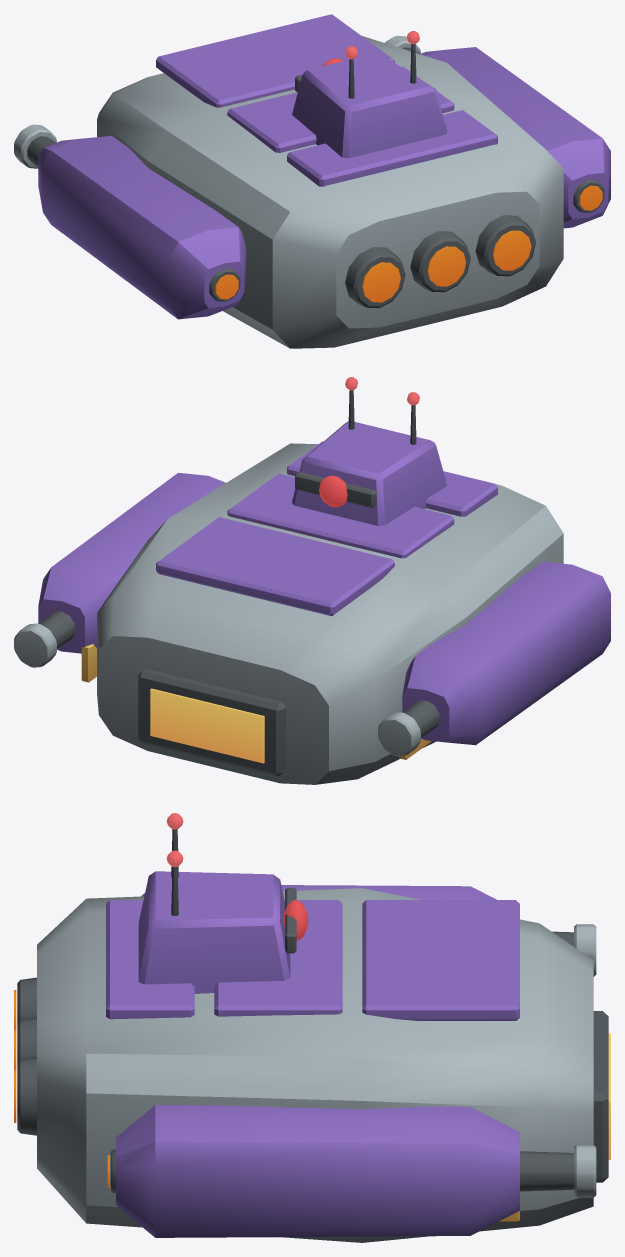
Rendered from mae.glb.
3 views of the same model, one above another, from view 1: azimuth 30°, elevation 25°; view 2: azimuth 150°, elevation 25°; view 3: azimuth 270°, elevation 25° (orthographic). The views are drawn at different scales.
Parts seen in each view (by area): view 1: mae_casco; view 2: mae_casco; view 3: mae_casco.
Boxes of the visible parts, bbox=[...] form: mae_casco: bbox=[14, 14, 610, 348]; mae_casco: bbox=[14, 377, 610, 784]; mae_casco: bbox=[14, 813, 610, 1242].
Bounding box in the file's own units: 12.84 × 7.59 × 12.12.
4 materials, 4 textured.
